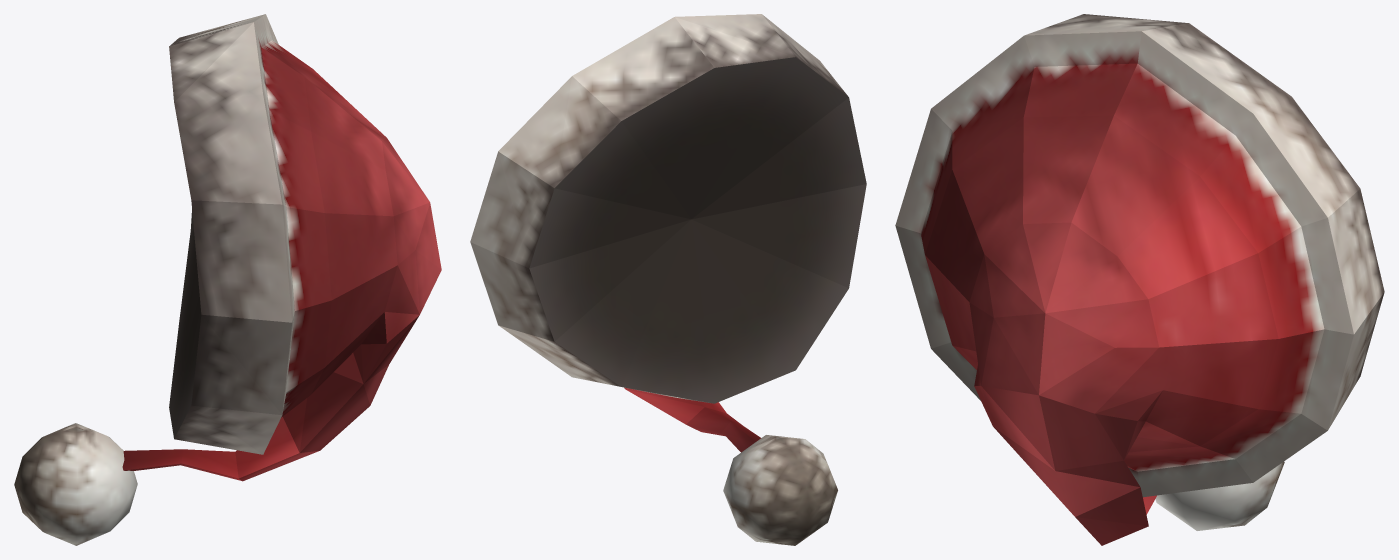
The model's file is add_head08_Christmas1.FBX.
3 views of the same model, side by side, from view 1: azimuth 30°, elevation 25°; view 2: azimuth 150°, elevation 25°; view 3: azimuth 270°, elevation 25° (orthographic). The views are drawn at different scales.
Visible parts, largest first — view 1: Head_Christmas01; view 2: Head_Christmas01; view 3: Head_Christmas01.
Boxes of the visible parts, box(x1,y1,x2,y2) form: Head_Christmas01: box(14, 14, 441, 545); Head_Christmas01: box(470, 14, 866, 545); Head_Christmas01: box(895, 14, 1384, 545).
Bounding box in the file's own units: 0.7524 × 1.04 × 0.8015.
